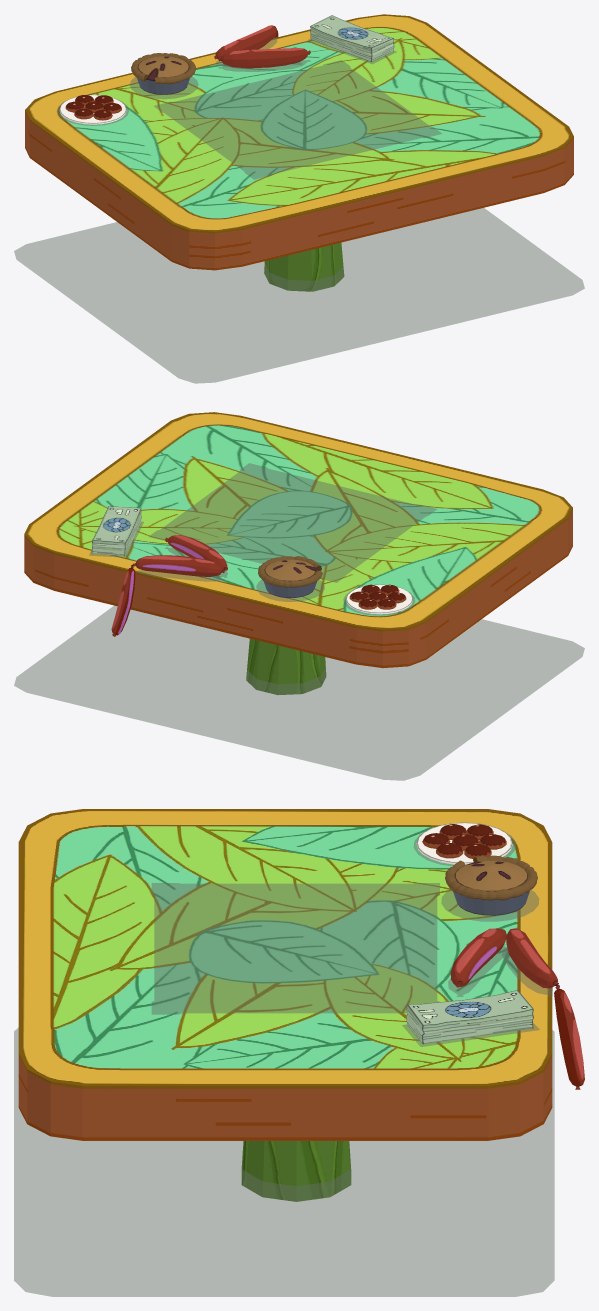
The model's file is WildberryKingdom_Table.glb.
3 views of the same model, one above another, from view 1: azimuth 30°, elevation 25°; view 2: azimuth 150°, elevation 25°; view 3: azimuth 270°, elevation 25° (orthographic). The views are drawn at different scales.
Visible parts, largest first — view 1: WildberryKingdom_Table, WildberryKingdom_Shadow, WildberryKingdom_Table_Shadow, WildberryKingdom_Objects; view 2: WildberryKingdom_Table, WildberryKingdom_Shadow, WildberryKingdom_Table_Shadow, WildberryKingdom_Objects; view 3: WildberryKingdom_Table, WildberryKingdom_Shadow, WildberryKingdom_Table_Shadow, WildberryKingdom_Objects.
Boxes of the visible parts, x1,y1,x2,y2 form: WildberryKingdom_Table: (25, 14, 573, 291); WildberryKingdom_Shadow: (14, 37, 584, 383); WildberryKingdom_Table_Shadow: (154, 60, 442, 179); WildberryKingdom_Objects: (59, 15, 394, 124); WildberryKingdom_Table: (24, 412, 572, 694); WildberryKingdom_Shadow: (14, 521, 584, 780); WildberryKingdom_Table_Shadow: (149, 463, 436, 582); WildberryKingdom_Objects: (91, 506, 412, 636); WildberryKingdom_Table: (18, 809, 552, 1201); WildberryKingdom_Shadow: (14, 833, 554, 1296); WildberryKingdom_Table_Shadow: (151, 883, 439, 1014); WildberryKingdom_Objects: (406, 822, 584, 1089).
Bounding box in the file's own units: 5.27 × 2.28 × 4.52.
2 materials, 2 textured.
